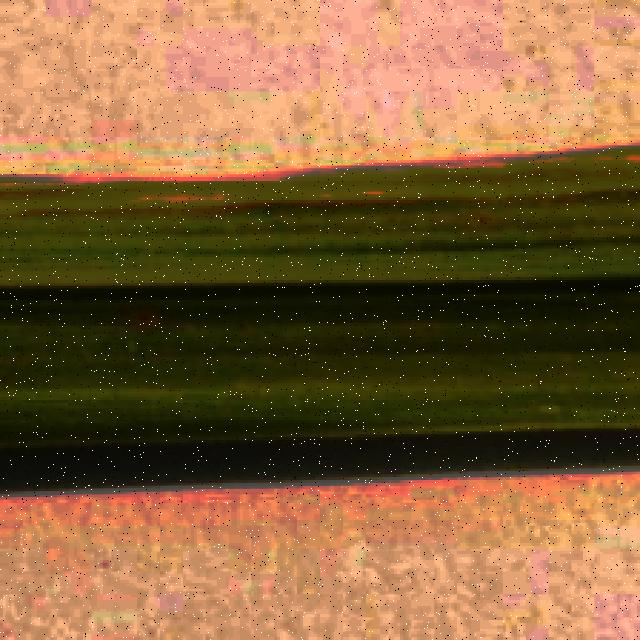unhealth: (0, 152, 640, 450)
